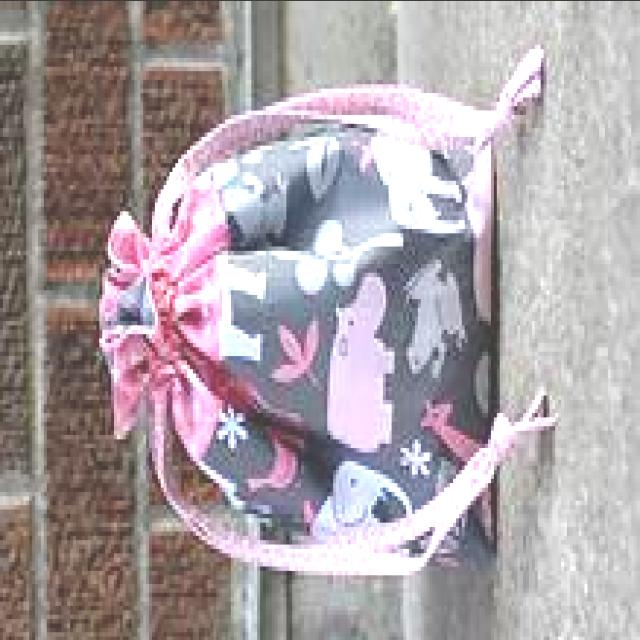backpack: (98, 50, 551, 580)
